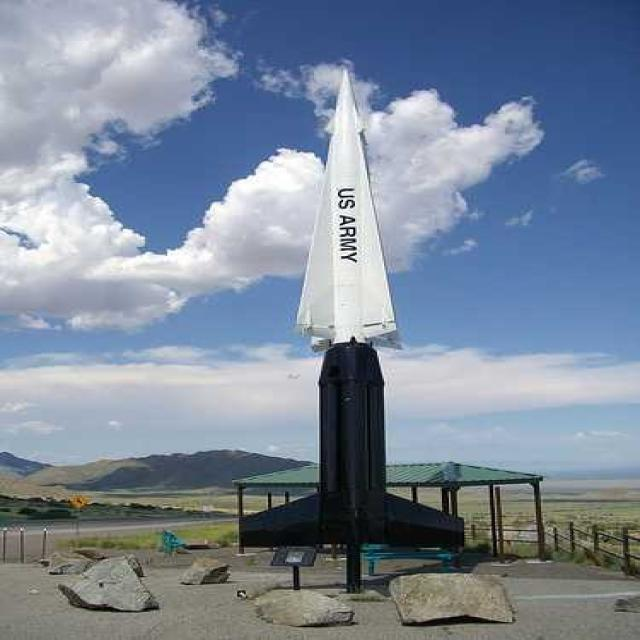missile: (284, 77, 439, 541)
